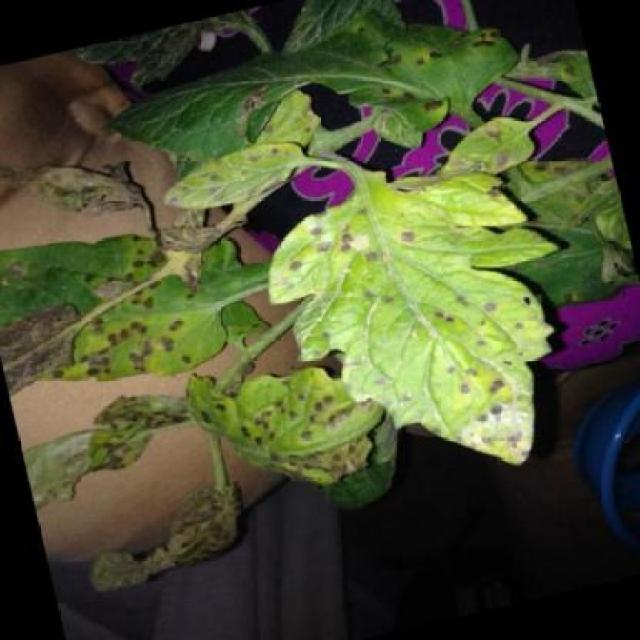Septoria leaf spot: (252, 142, 603, 520), (97, 0, 561, 202), (161, 332, 414, 518), (40, 258, 246, 402), (122, 132, 326, 237), (436, 109, 552, 191)
